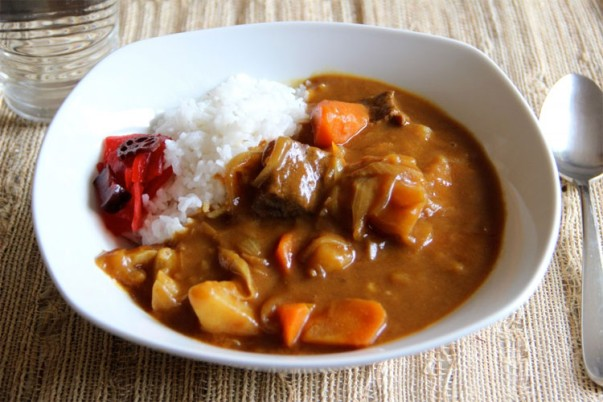curry: (183, 150, 445, 349), (309, 86, 468, 286)
rice: (179, 78, 283, 181)
